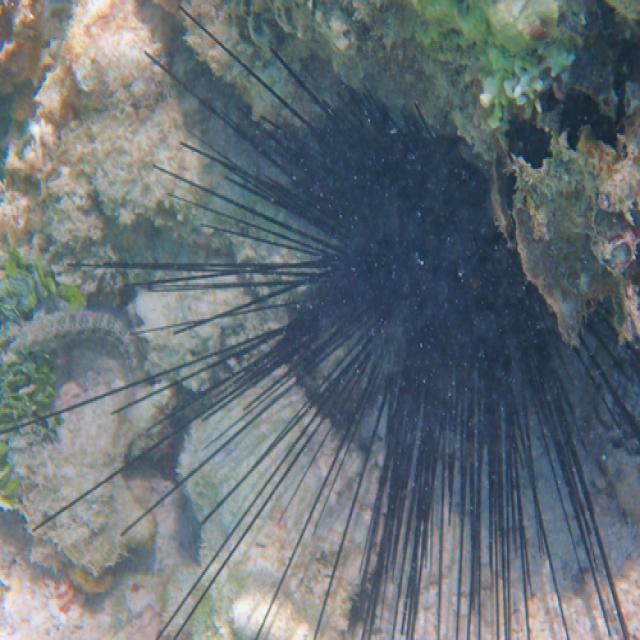Urchin: (23, 7, 635, 638)
